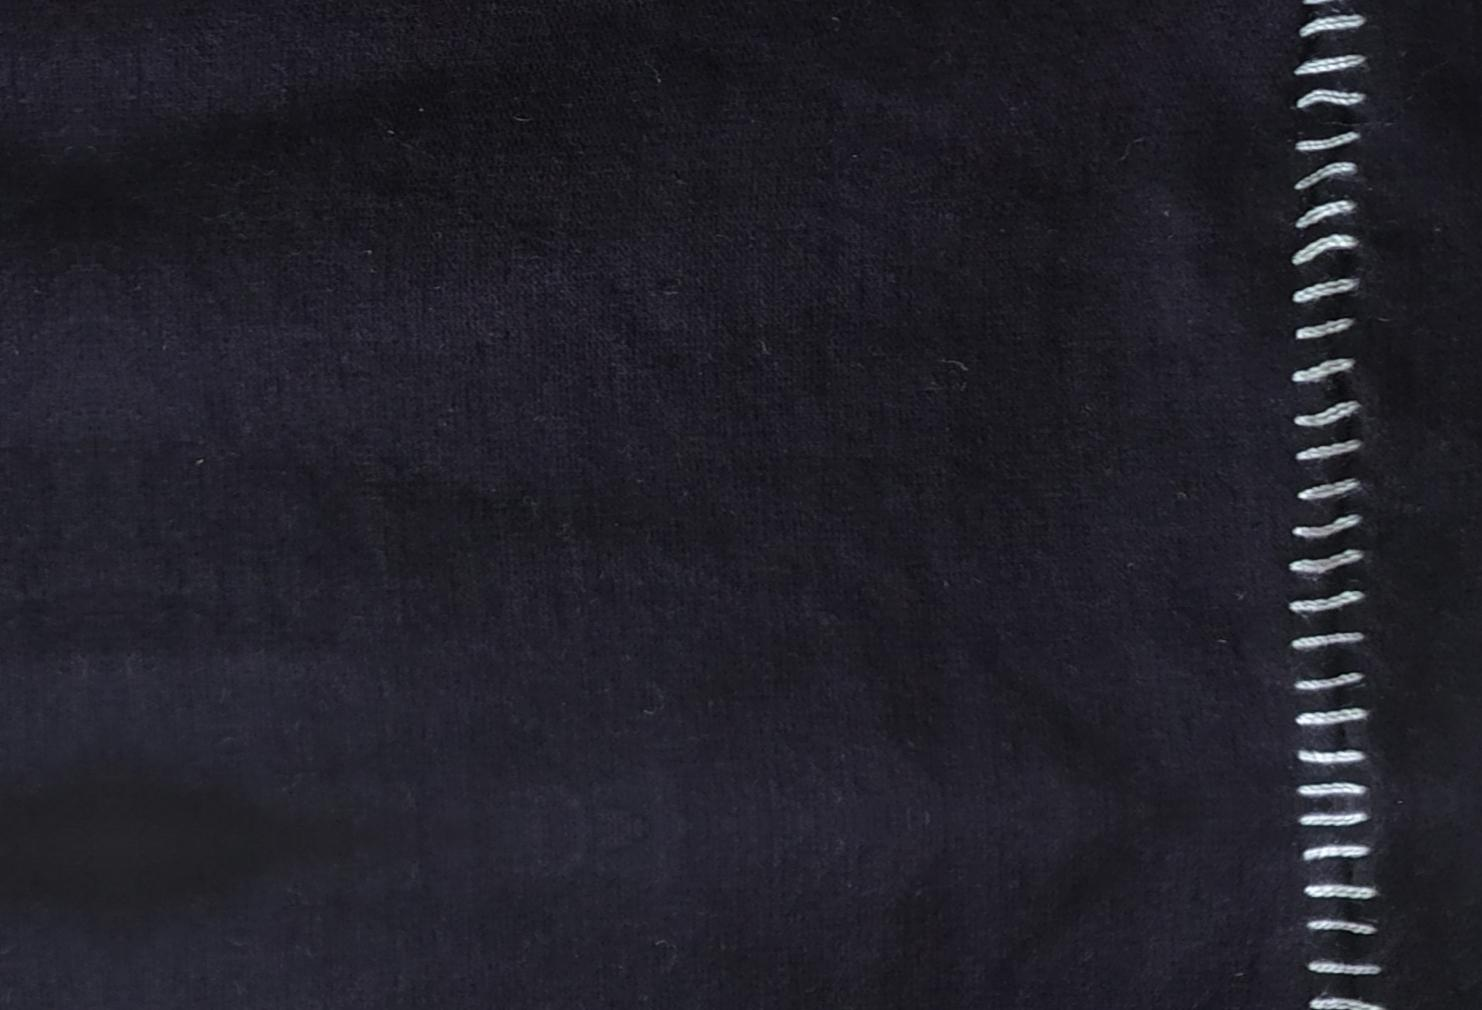slub: (1285, 3, 1396, 1010)
